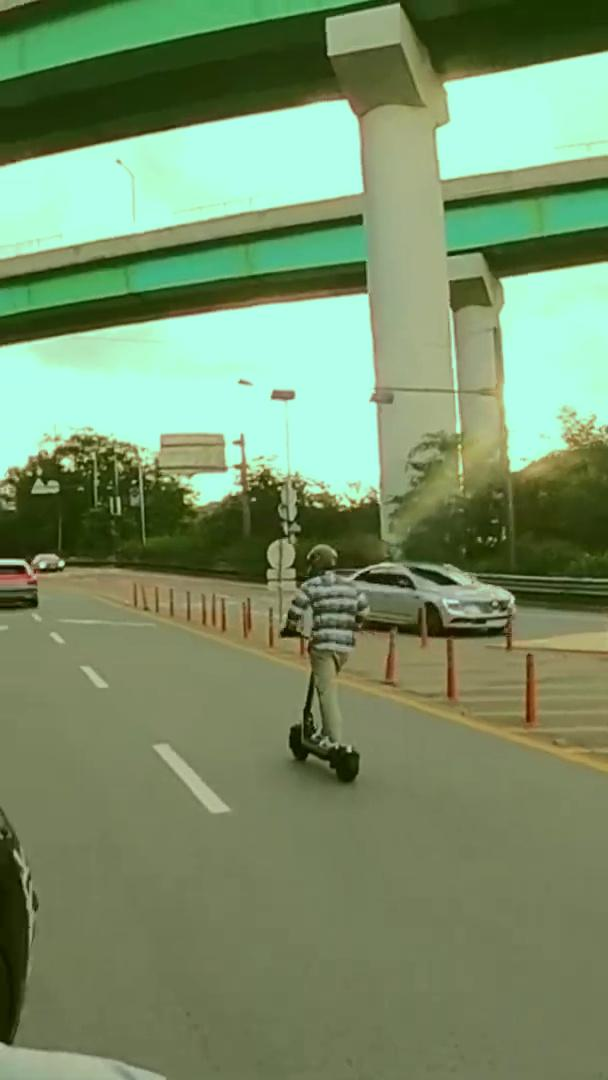helmet: (278, 540, 371, 786)
